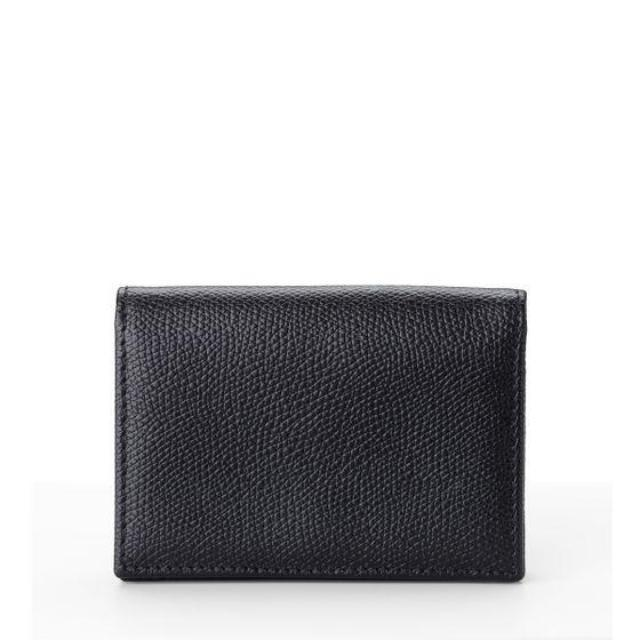Wallet: (114, 286, 526, 582)
